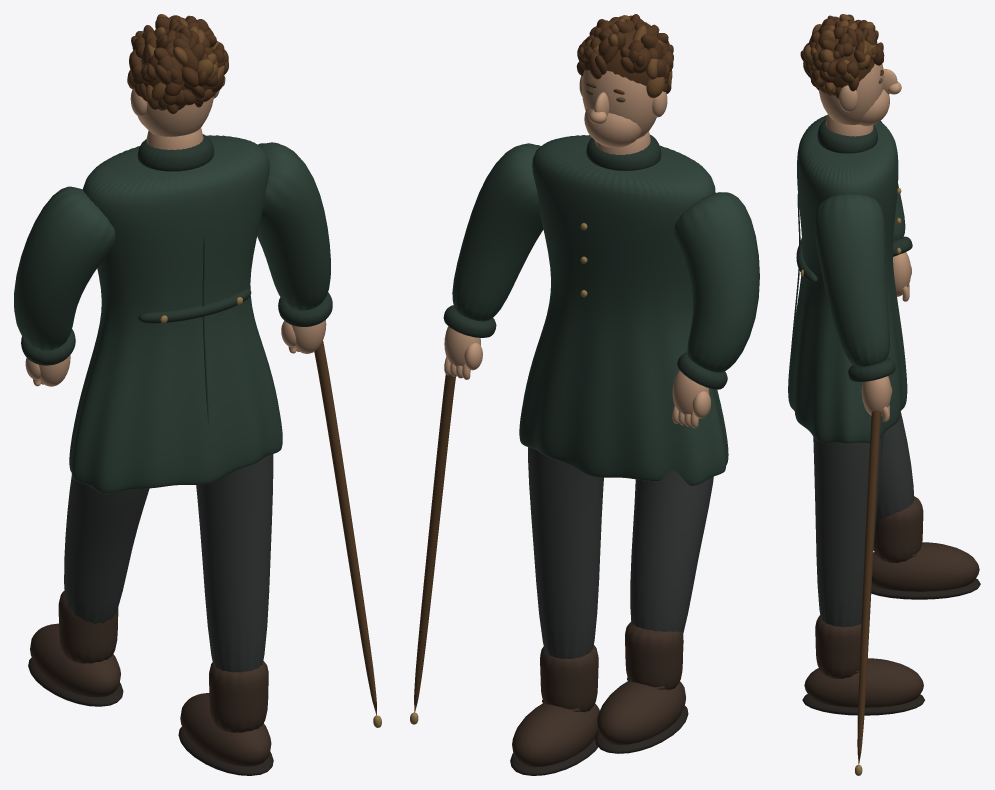
The model's file is wanderer-character.glb.
The picture shows the model from 3 angles, left to right: view 1: azimuth 30°, elevation 25°; view 2: azimuth 150°, elevation 25°; view 3: azimuth 270°, elevation 25°; orthographic projection. The views are drawn at different scales.
Parts seen in each view (by area): view 1: Long fitted frock coat, Right trouser leg, Left wool sleeve, Right wool sleeve, Left trouser leg, Walking cane, Right boot shaft, Right boot toe, Left boot toe, Left boot shaft, Standing coat collar, Head (+7 smaller); view 2: Long fitted frock coat, Right trouser leg, Left wool sleeve, Left trouser leg, Right wool sleeve, Left boot toe, Right boot toe, Left boot shaft, Walking cane, Right boot shaft, Head, Standing coat collar (+8 smaller); view 3: Long fitted frock coat, Right wool sleeve, Right trouser leg, Left boot toe, Right boot toe, Walking cane, Left trouser leg, Left boot shaft, Right boot shaft, Head, Standing coat collar, Right boot sole (+10 smaller).
Part boxes in pixels (x1=…): Long fitted frock coat: x1=69, y1=135, x2=282, y2=493; Right trouser leg: x1=196, y1=454, x2=273, y2=672; Left wool sleeve: x1=14, y1=186, x2=115, y2=350; Right wool sleeve: x1=257, y1=142, x2=330, y2=310; Left trouser leg: x1=64, y1=475, x2=149, y2=623; Walking cane: x1=314, y1=341, x2=376, y2=715; Right boot shaft: x1=209, y1=661, x2=268, y2=732; Right boot toe: x1=180, y1=693, x2=271, y2=766; Left boot toe: x1=30, y1=623, x2=120, y2=697; Left boot shaft: x1=58, y1=590, x2=118, y2=663; Standing coat collar: x1=137, y1=134, x2=214, y2=171; Head: x1=140, y1=96, x2=214, y2=136; Long fitted frock coat: x1=519, y1=135, x2=728, y2=485; Right trouser leg: x1=528, y1=447, x2=603, y2=658; Left wool sleeve: x1=674, y1=192, x2=759, y2=372; Left trouser leg: x1=630, y1=470, x2=713, y2=633; Right wool sleeve: x1=452, y1=143, x2=543, y2=321; Left boot toe: x1=597, y1=681, x2=685, y2=744; Right boot toe: x1=512, y1=703, x2=599, y2=767; Left boot shaft: x1=625, y1=621, x2=683, y2=689; Walking cane: x1=414, y1=374, x2=455, y2=712; Right boot shaft: x1=540, y1=645, x2=598, y2=712; Head: x1=582, y1=69, x2=656, y2=138; Standing coat collar: x1=586, y1=134, x2=661, y2=170; Long fitted frock coat: x1=788, y1=115, x2=907, y2=443; Right wool sleeve: x1=814, y1=193, x2=889, y2=366; Right trouser leg: x1=813, y1=434, x2=883, y2=627; Left boot toe: x1=871, y1=542, x2=979, y2=591; Right boot toe: x1=804, y1=658, x2=923, y2=707; Walking cane: x1=857, y1=410, x2=880, y2=764; Left trouser leg: x1=876, y1=412, x2=914, y2=521; Left boot shaft: x1=873, y1=496, x2=923, y2=562; Right boot shaft: x1=815, y1=615, x2=861, y2=678; Head: x1=819, y1=64, x2=883, y2=124; Standing coat collar: x1=817, y1=119, x2=877, y2=153; Right boot sole: x1=802, y1=694, x2=924, y2=715.
Bounding box in the file's own units: 0.8707 × 1.79 × 0.4675.
